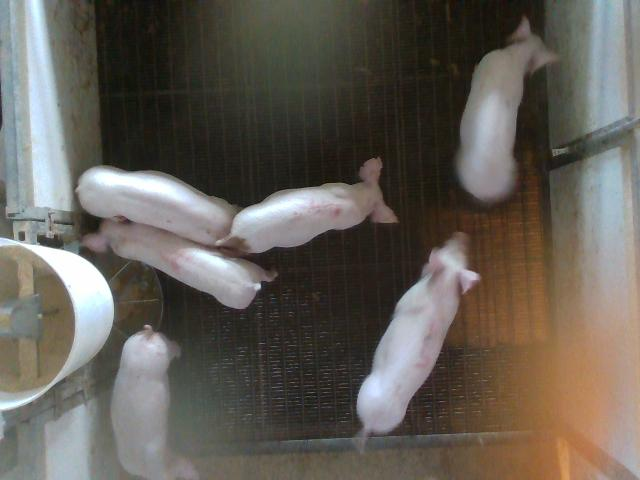pig-3: (356, 232, 480, 449)
pig-4: (82, 219, 274, 308)
pig-5: (216, 158, 397, 252)
